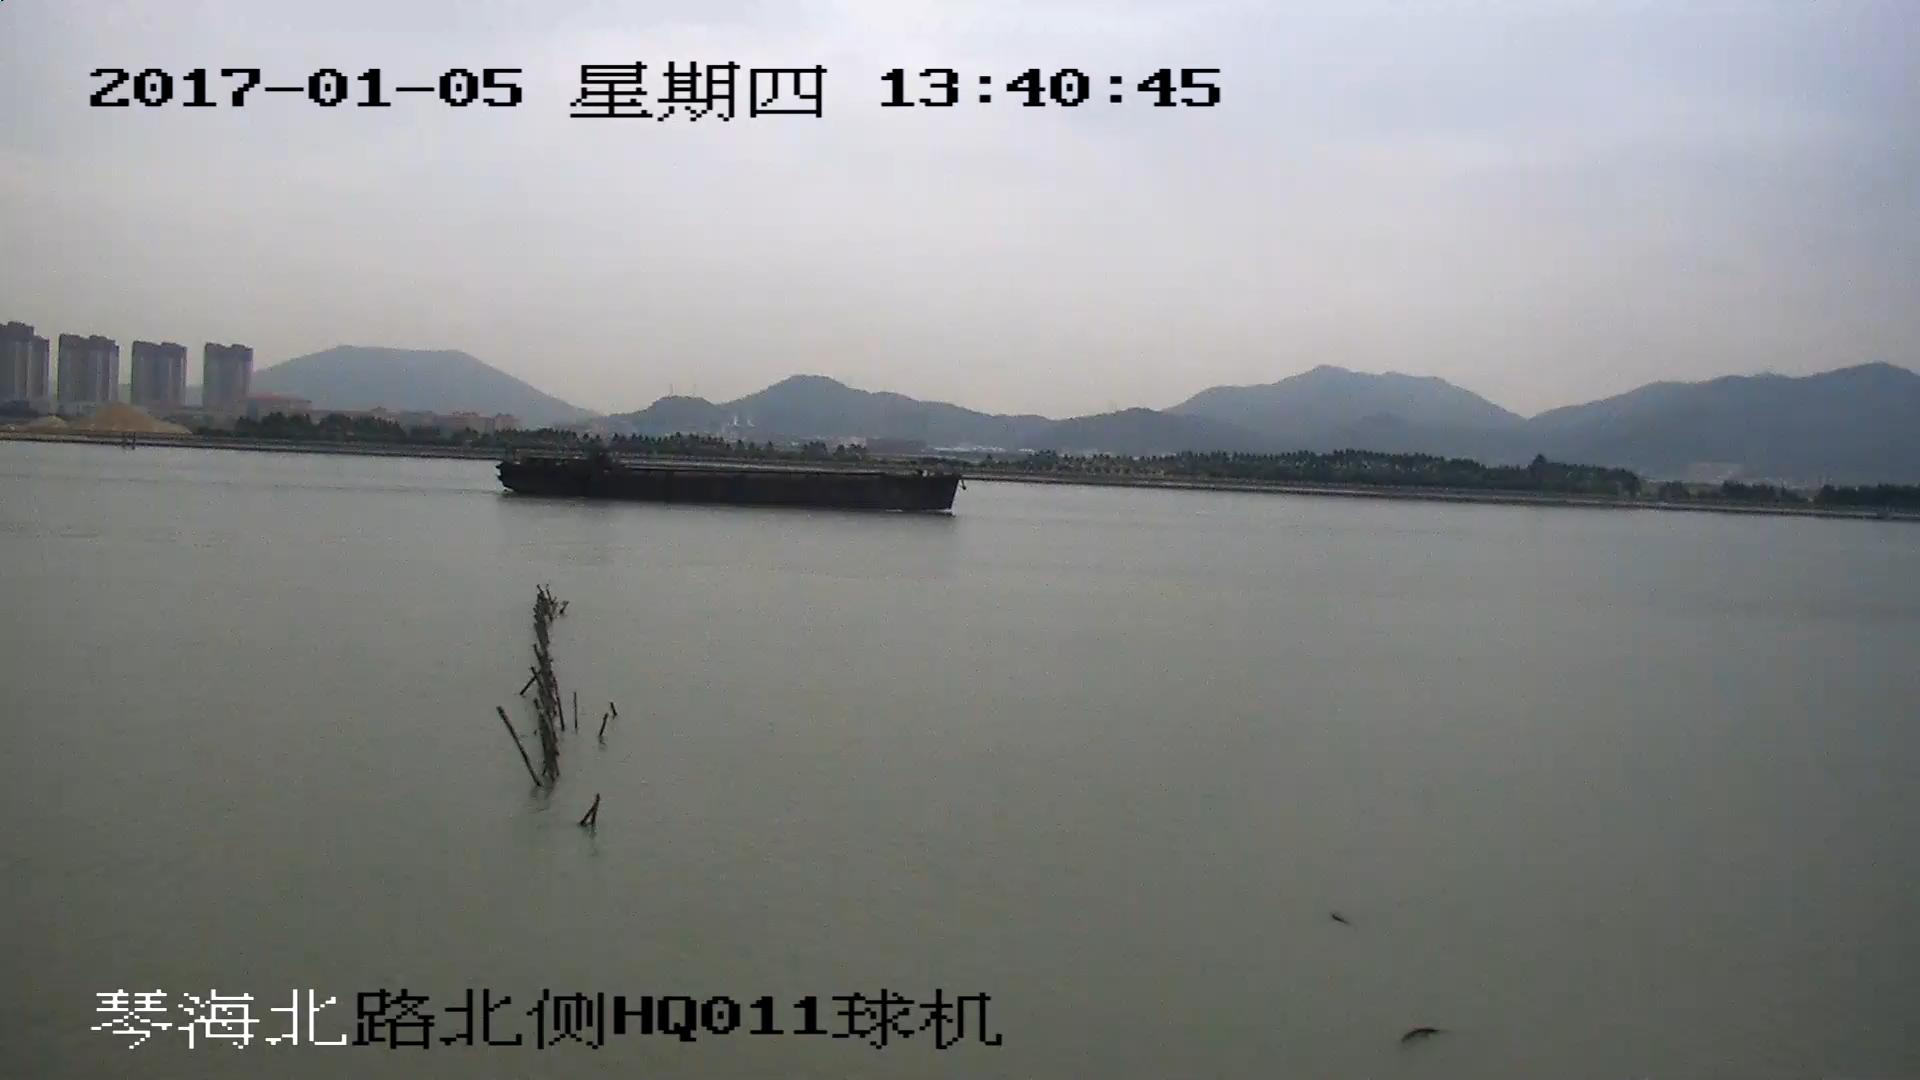bulk cargo carrier: (501, 449, 965, 513)
